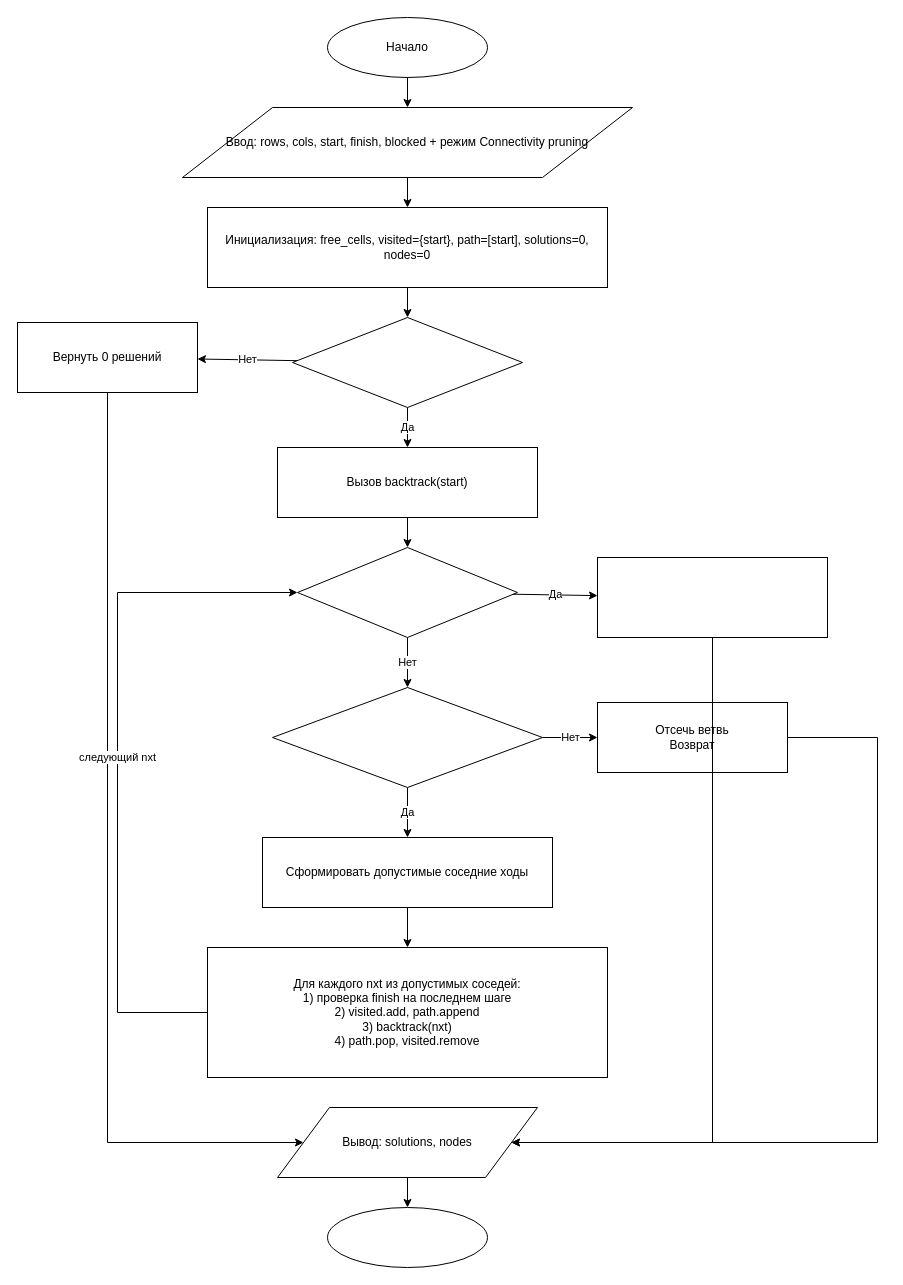
Image size: 903x1285. Some labels were removed from this diagram. The centre of each missing label's shape, as x and y in pixels:
connectivity_ok(free_cells, visited, rows, cols)?: (407,737)
len(path)==free_count?: (407,592)
start/finish в free_cells?: (407,362)
Если pos==finish: solutions += 1 Возврат: (712,597)
Конец: (407,1237)
